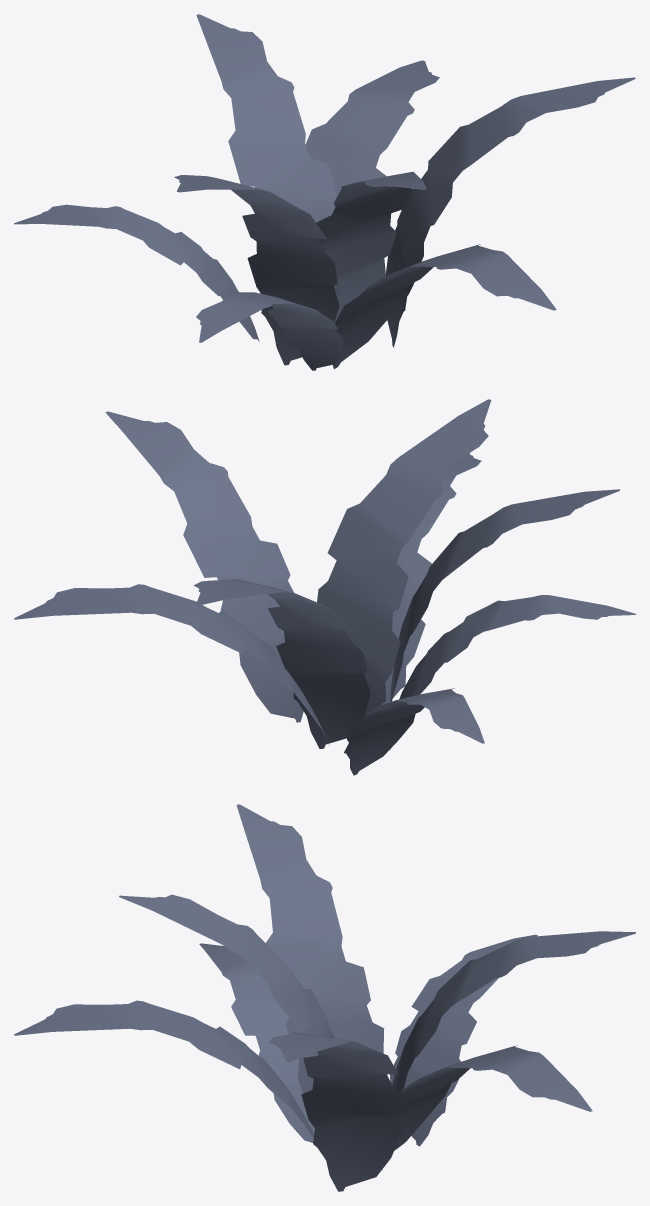
The model's file is MSH_Bush_Blockout_01.fbx.
3 views of the same model, one above another, from view 1: azimuth 30°, elevation 25°; view 2: azimuth 150°, elevation 25°; view 3: azimuth 270°, elevation 25° (orthographic).
Parts seen in each view (by area): view 1: Bushery; view 2: Bushery; view 3: Bushery.
Part boxes in pixels (bbox=[...]): Bushery: bbox=[14, 14, 635, 370]; Bushery: bbox=[14, 399, 635, 775]; Bushery: bbox=[14, 804, 635, 1191].
Bounding box in the file's own units: 611 × 303 × 661.
